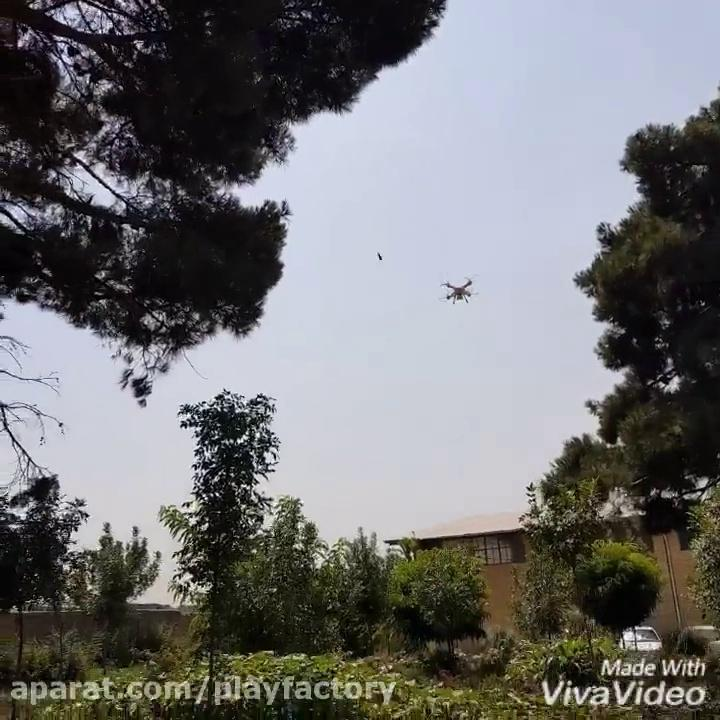drone: (433, 267, 485, 307)
